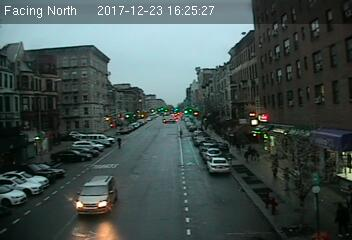bicycle: (115, 136, 122, 150)
car: (75, 175, 118, 215), (209, 158, 232, 173)
